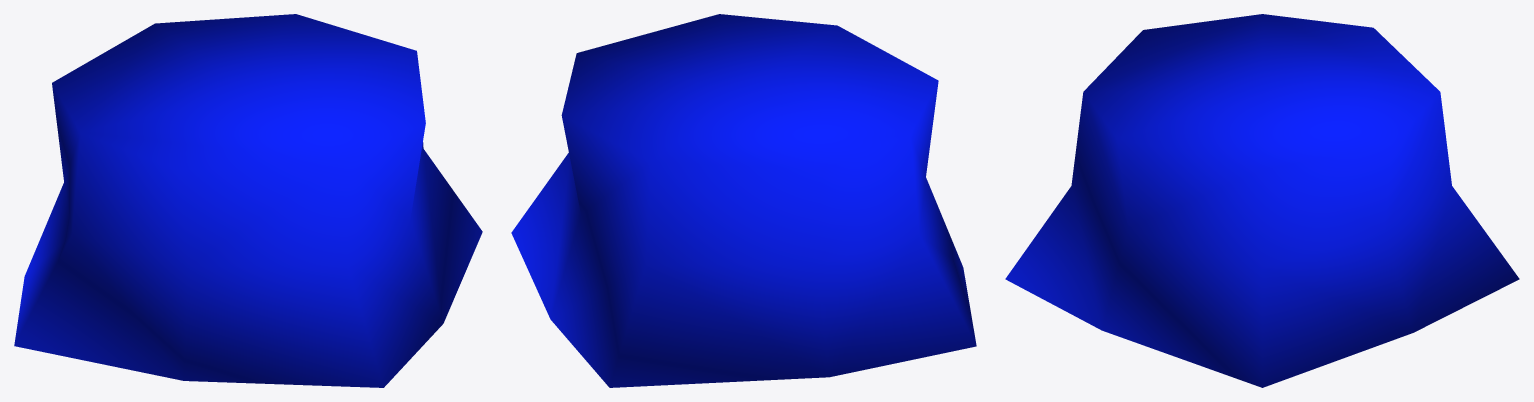
File: item_pack_kettle_meshCollider.fbx
3 renders of one model, left to right at view 1: azimuth 30°, elevation 25°; view 2: azimuth 150°, elevation 25°; view 3: azimuth 270°, elevation 25°, orthographic. The views are drawn at different scales.
Parts seen in each view (by area): view 1: item_pack_kettle_meshCollider; view 2: item_pack_kettle_meshCollider; view 3: item_pack_kettle_meshCollider.
Part boxes in pixels (box(x1,y1,x2,y2)): item_pack_kettle_meshCollider: box(14, 14, 482, 387); item_pack_kettle_meshCollider: box(511, 14, 976, 387); item_pack_kettle_meshCollider: box(1005, 14, 1519, 387).
Size of the model in its own units: 25.59 by 10.28 by 25.59.
